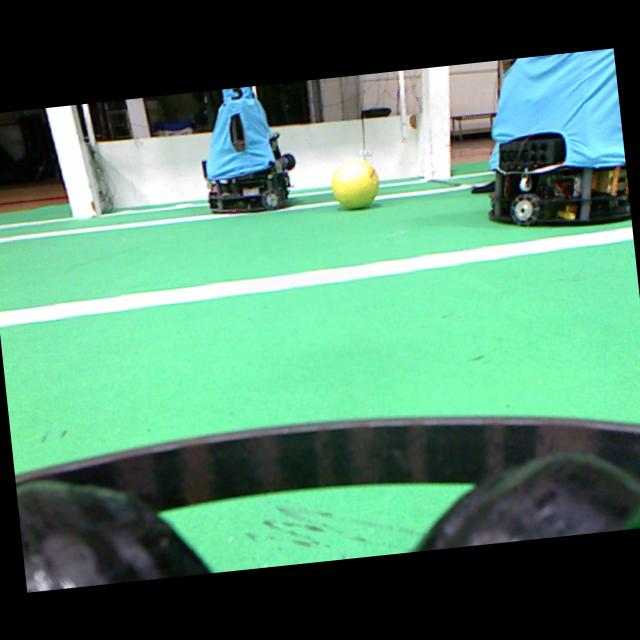ball: (331, 158, 378, 208)
goal: (45, 105, 95, 217), (426, 65, 450, 178)
